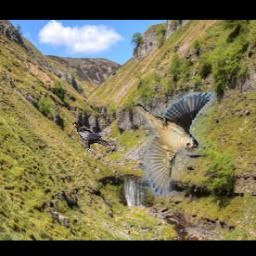Crow: (66, 120, 111, 155)
Sparrow: (135, 92, 216, 196)
